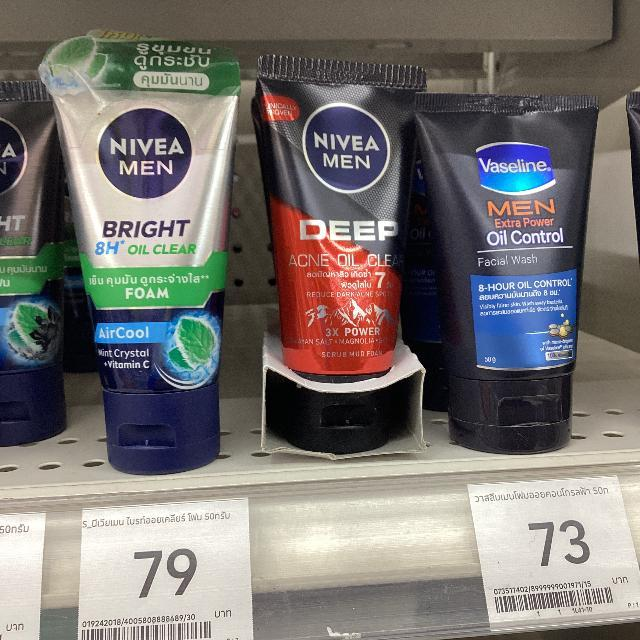Squeeze Tube: (42, 38, 611, 500)
